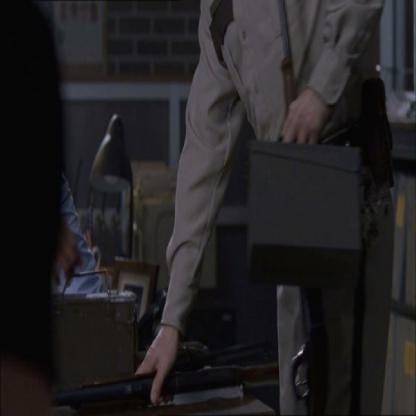Gun: (274, 0, 330, 415), (41, 336, 288, 415)
